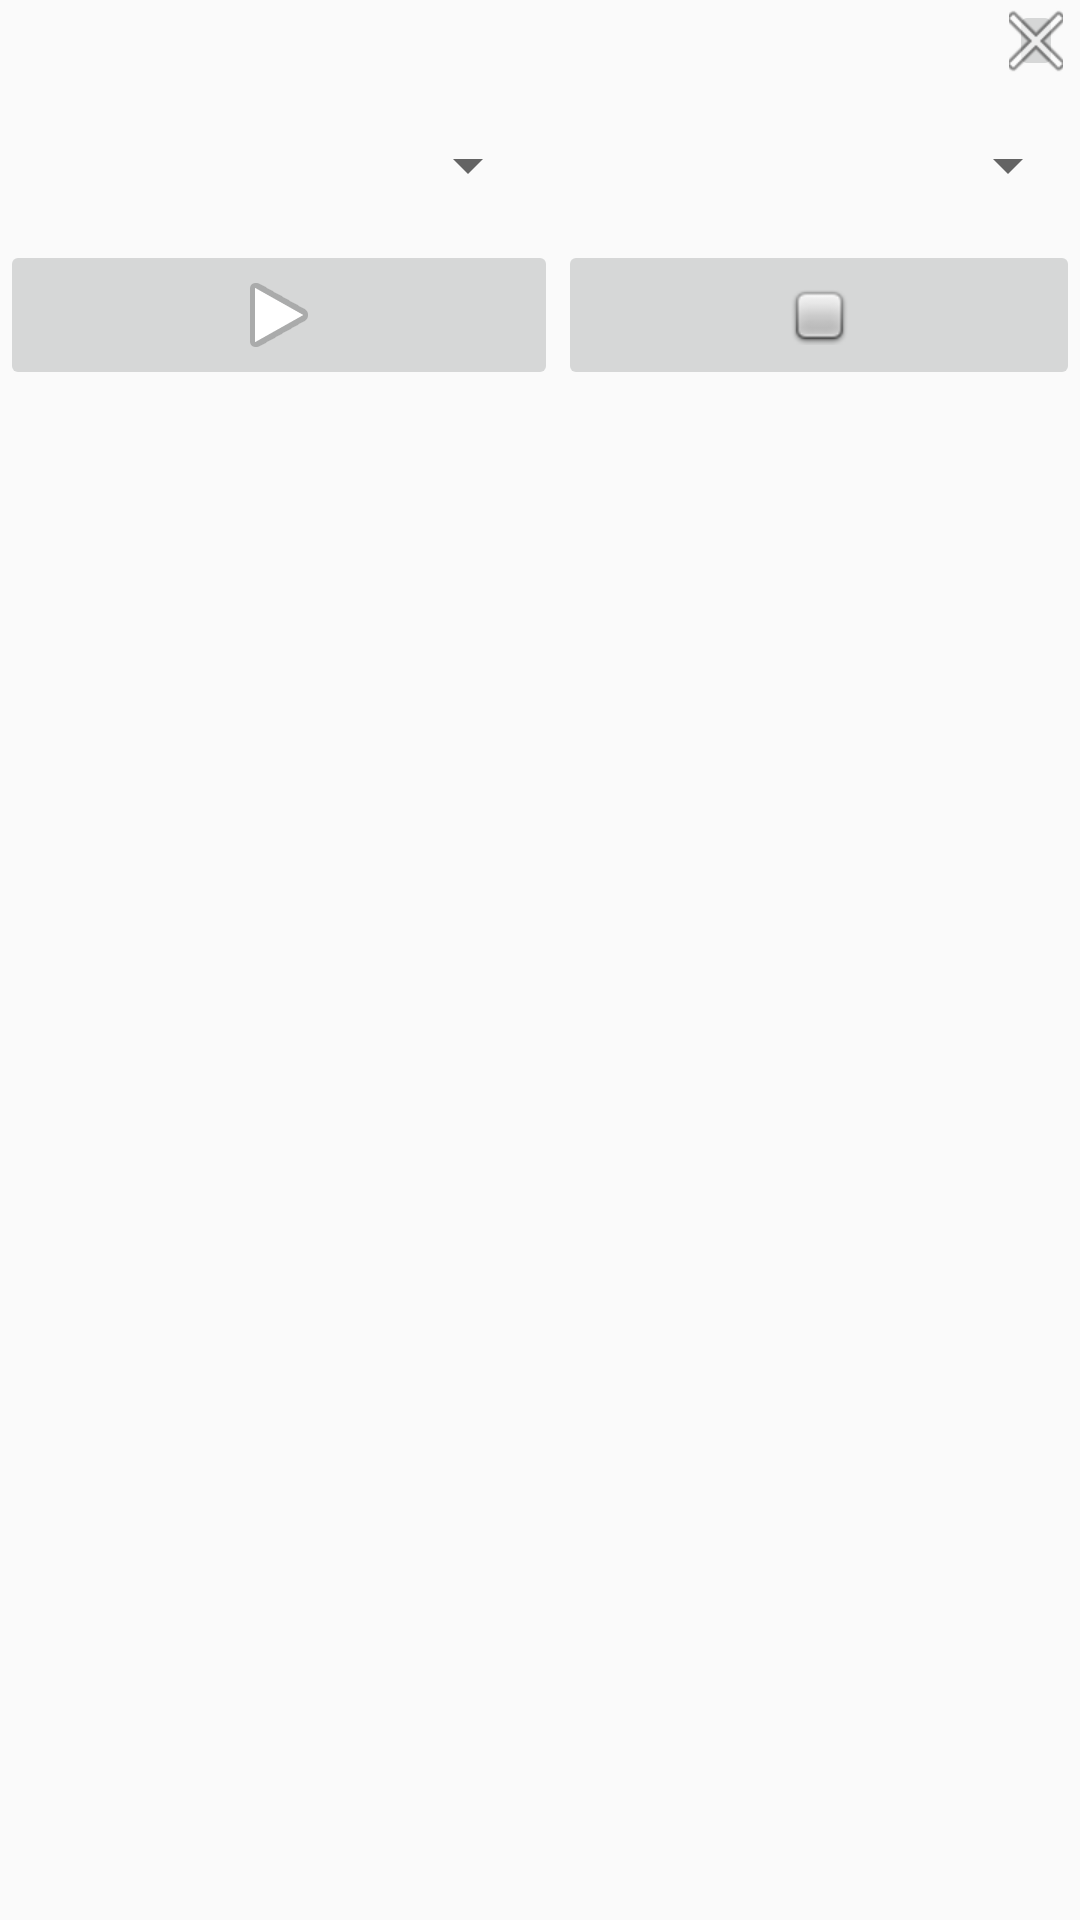

Named icons in this screenshot (1080px×1920px) and their bounding boxes, [x1=x1, y1=y1, x2=x2, y2=y2]:
close clear cancel: [x1=1009, y1=11, x2=1063, y2=71]
